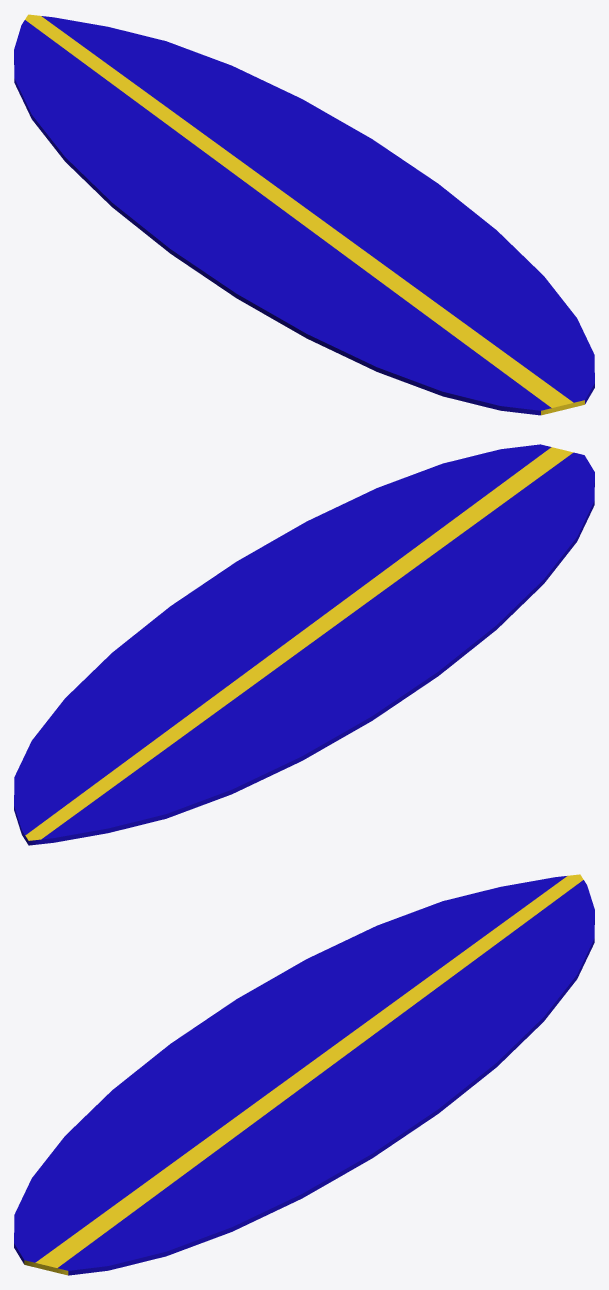
File: Prancha.FBX
The picture shows the model from 3 angles, top to bottom: view 1: azimuth 30°, elevation 25°; view 2: azimuth 150°, elevation 25°; view 3: azimuth 330°, elevation 25°; orthographic projection.
Visible parts, largest first — view 1: Prancha; view 2: Prancha; view 3: Prancha.
Part boxes in pixels (x1=…): Prancha: x1=14, y1=14, x2=594, y2=415; Prancha: x1=14, y1=444, x2=594, y2=845; Prancha: x1=14, y1=874, x2=594, y2=1275.
Bounding box in the file's own units: 28.43 × 0.4755 × 98.19.
